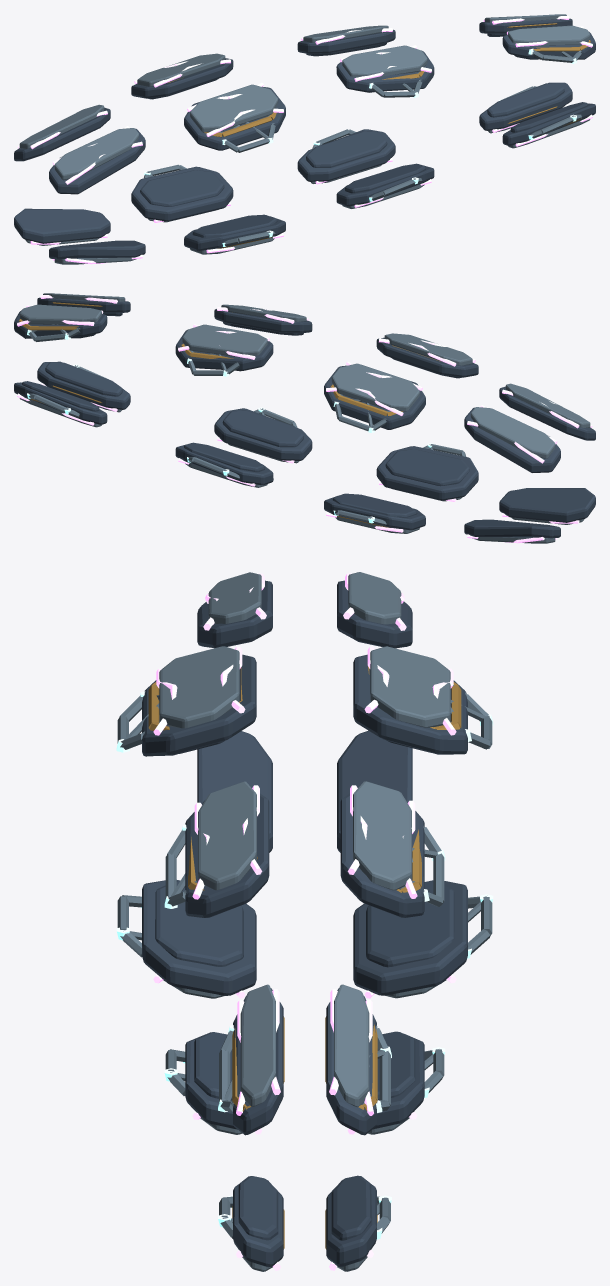
Rendered from plating.glb.
3 renders of one model, top to bottom at view 1: azimuth 30°, elevation 25°; view 2: azimuth 150°, elevation 25°; view 3: azimuth 270°, elevation 25°, orthographic. The views are drawn at different scales.
Visible parts, largest first — view 1: p_heavy Fitting gunmetal, p_heavy Brushed fitting edges, p_aegis Fitting gunmetal, p_heavy p_heavy emitter, p_light Brushed fitting edges, p_aegis Champagne gold edging, p_light p_light emitter; view 2: p_heavy Fitting gunmetal, p_heavy Brushed fitting edges, p_aegis Fitting gunmetal, p_heavy p_heavy emitter, p_light Brushed fitting edges, p_aegis Champagne gold edging, p_light p_light emitter; view 3: p_heavy Fitting gunmetal, p_heavy Brushed fitting edges, p_aegis Fitting gunmetal, p_light Brushed fitting edges, p_heavy p_heavy emitter, p_aegis Champagne gold edging, p_light p_light emitter.
Part boxes in pixels (x1=…): p_heavy Fitting gunmetal: x1=14, y1=18, x2=595, y2=259; p_heavy Brushed fitting edges: x1=19, y1=14, x2=590, y2=264; p_aegis Fitting gunmetal: x1=140, y1=33, x2=587, y2=237; p_heavy p_heavy emitter: x1=17, y1=16, x2=592, y2=264; p_light Brushed fitting edges: x1=144, y1=50, x2=581, y2=246; p_aegis Champagne gold edging: x1=168, y1=23, x2=590, y2=248; p_light p_light emitter: x1=144, y1=48, x2=576, y2=246; p_heavy Fitting gunmetal: x1=14, y1=297, x2=595, y2=538; p_heavy Brushed fitting edges: x1=19, y1=293, x2=590, y2=543; p_aegis Fitting gunmetal: x1=22, y1=312, x2=469, y2=517; p_heavy p_heavy emitter: x1=17, y1=295, x2=592, y2=543; p_light Brushed fitting edges: x1=28, y1=324, x2=466, y2=525; p_aegis Champagne gold edging: x1=19, y1=302, x2=440, y2=527; p_light p_light emitter: x1=27, y1=329, x2=433, y2=523; p_heavy Fitting gunmetal: x1=142, y1=580, x2=467, y2=1267; p_heavy Brushed fitting edges: x1=159, y1=572, x2=450, y2=1271; p_aegis Fitting gunmetal: x1=155, y1=740, x2=454, y2=1240; p_light Brushed fitting edges: x1=117, y1=692, x2=492, y2=1238; p_heavy p_heavy emitter: x1=153, y1=573, x2=456, y2=1270; p_aegis Champagne gold edging: x1=148, y1=666, x2=461, y2=1249; p_light p_light emitter: x1=116, y1=691, x2=493, y2=1239.
Size of the model in its own units: 38.2 by 10.09 by 11.39.
